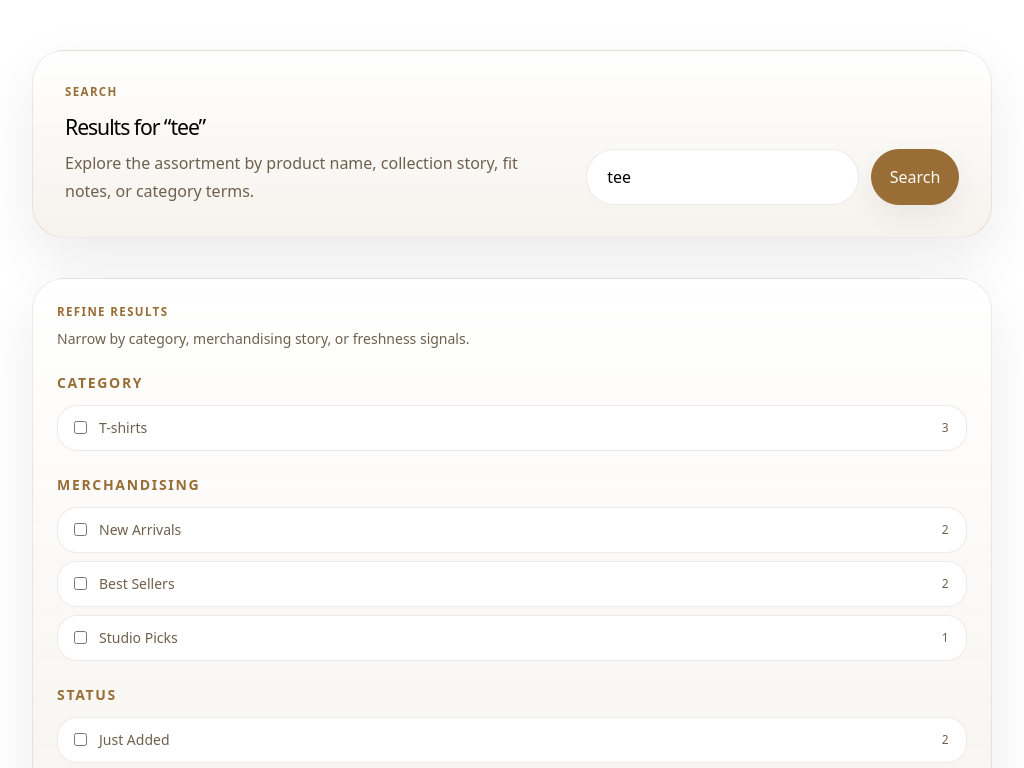
Test case: SearchResultsExperience › shows filter recovery when facets remove all matches
Click the checkbox labelled "Studio Picks": (80, 638) left=74, top=631, right=87, bottom=644
(page scrolled)
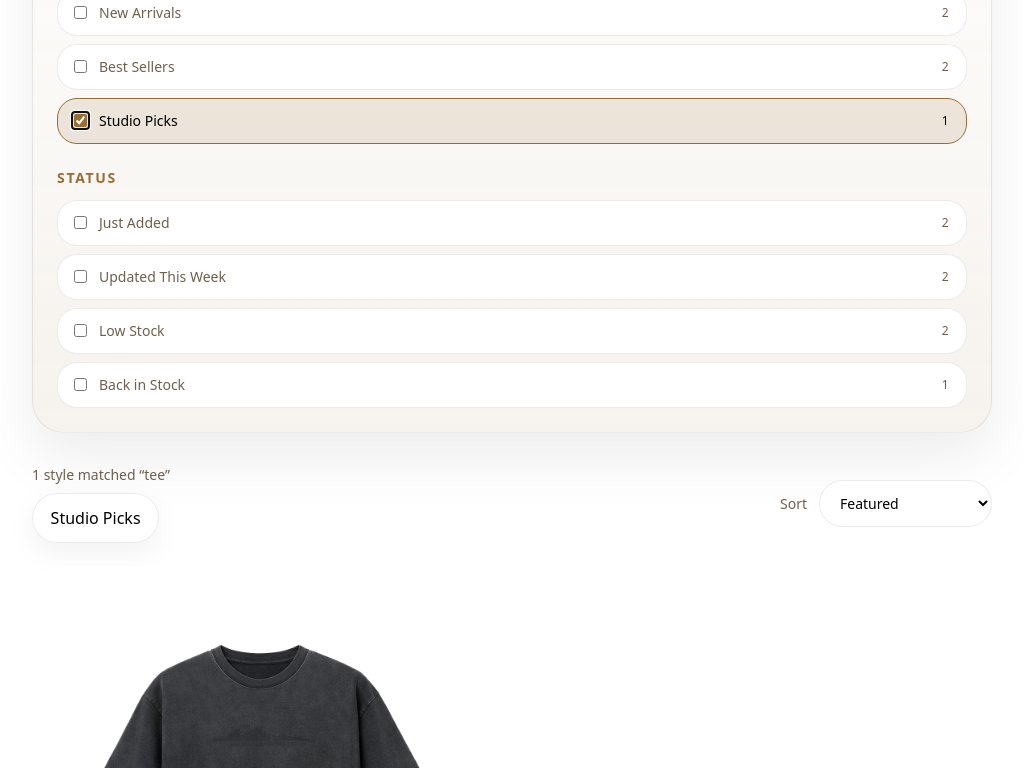
Click the checkbox labelled "Back in Stock": (80, 385) left=74, top=378, right=87, bottom=391
(page scrolled)
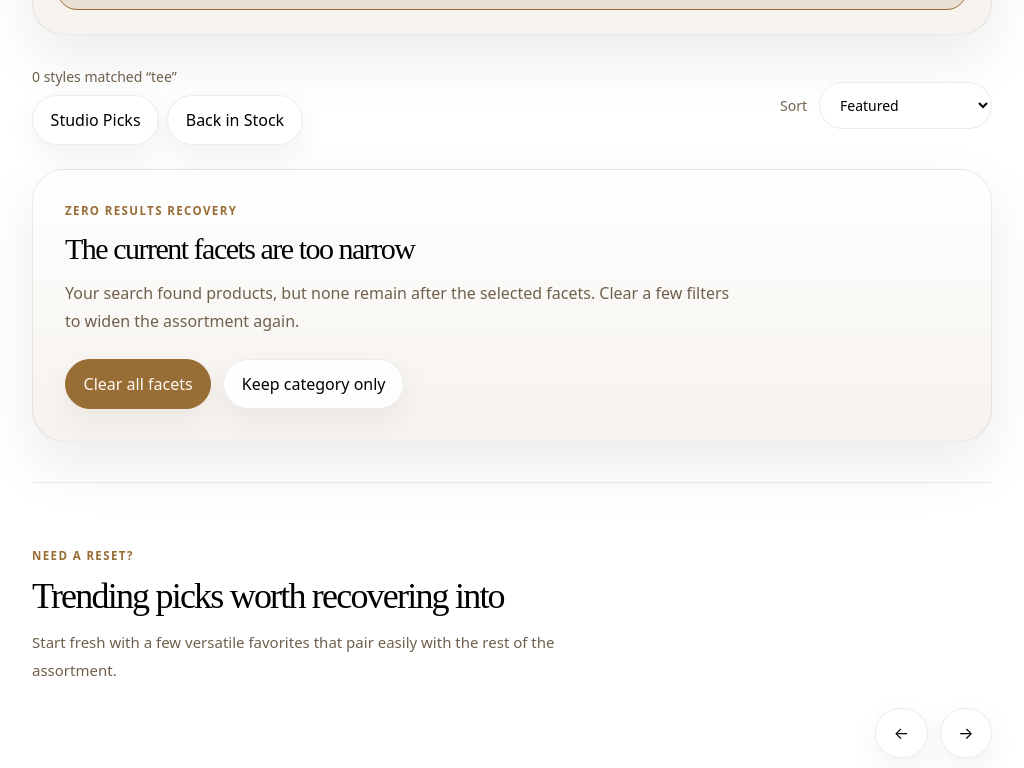
Expected: the heading "The current facets are too narrow" is shown, left=65, top=232, right=414, bottom=265
Expected: the button "Clear all facets" is shown, left=65, top=359, right=211, bottom=409
